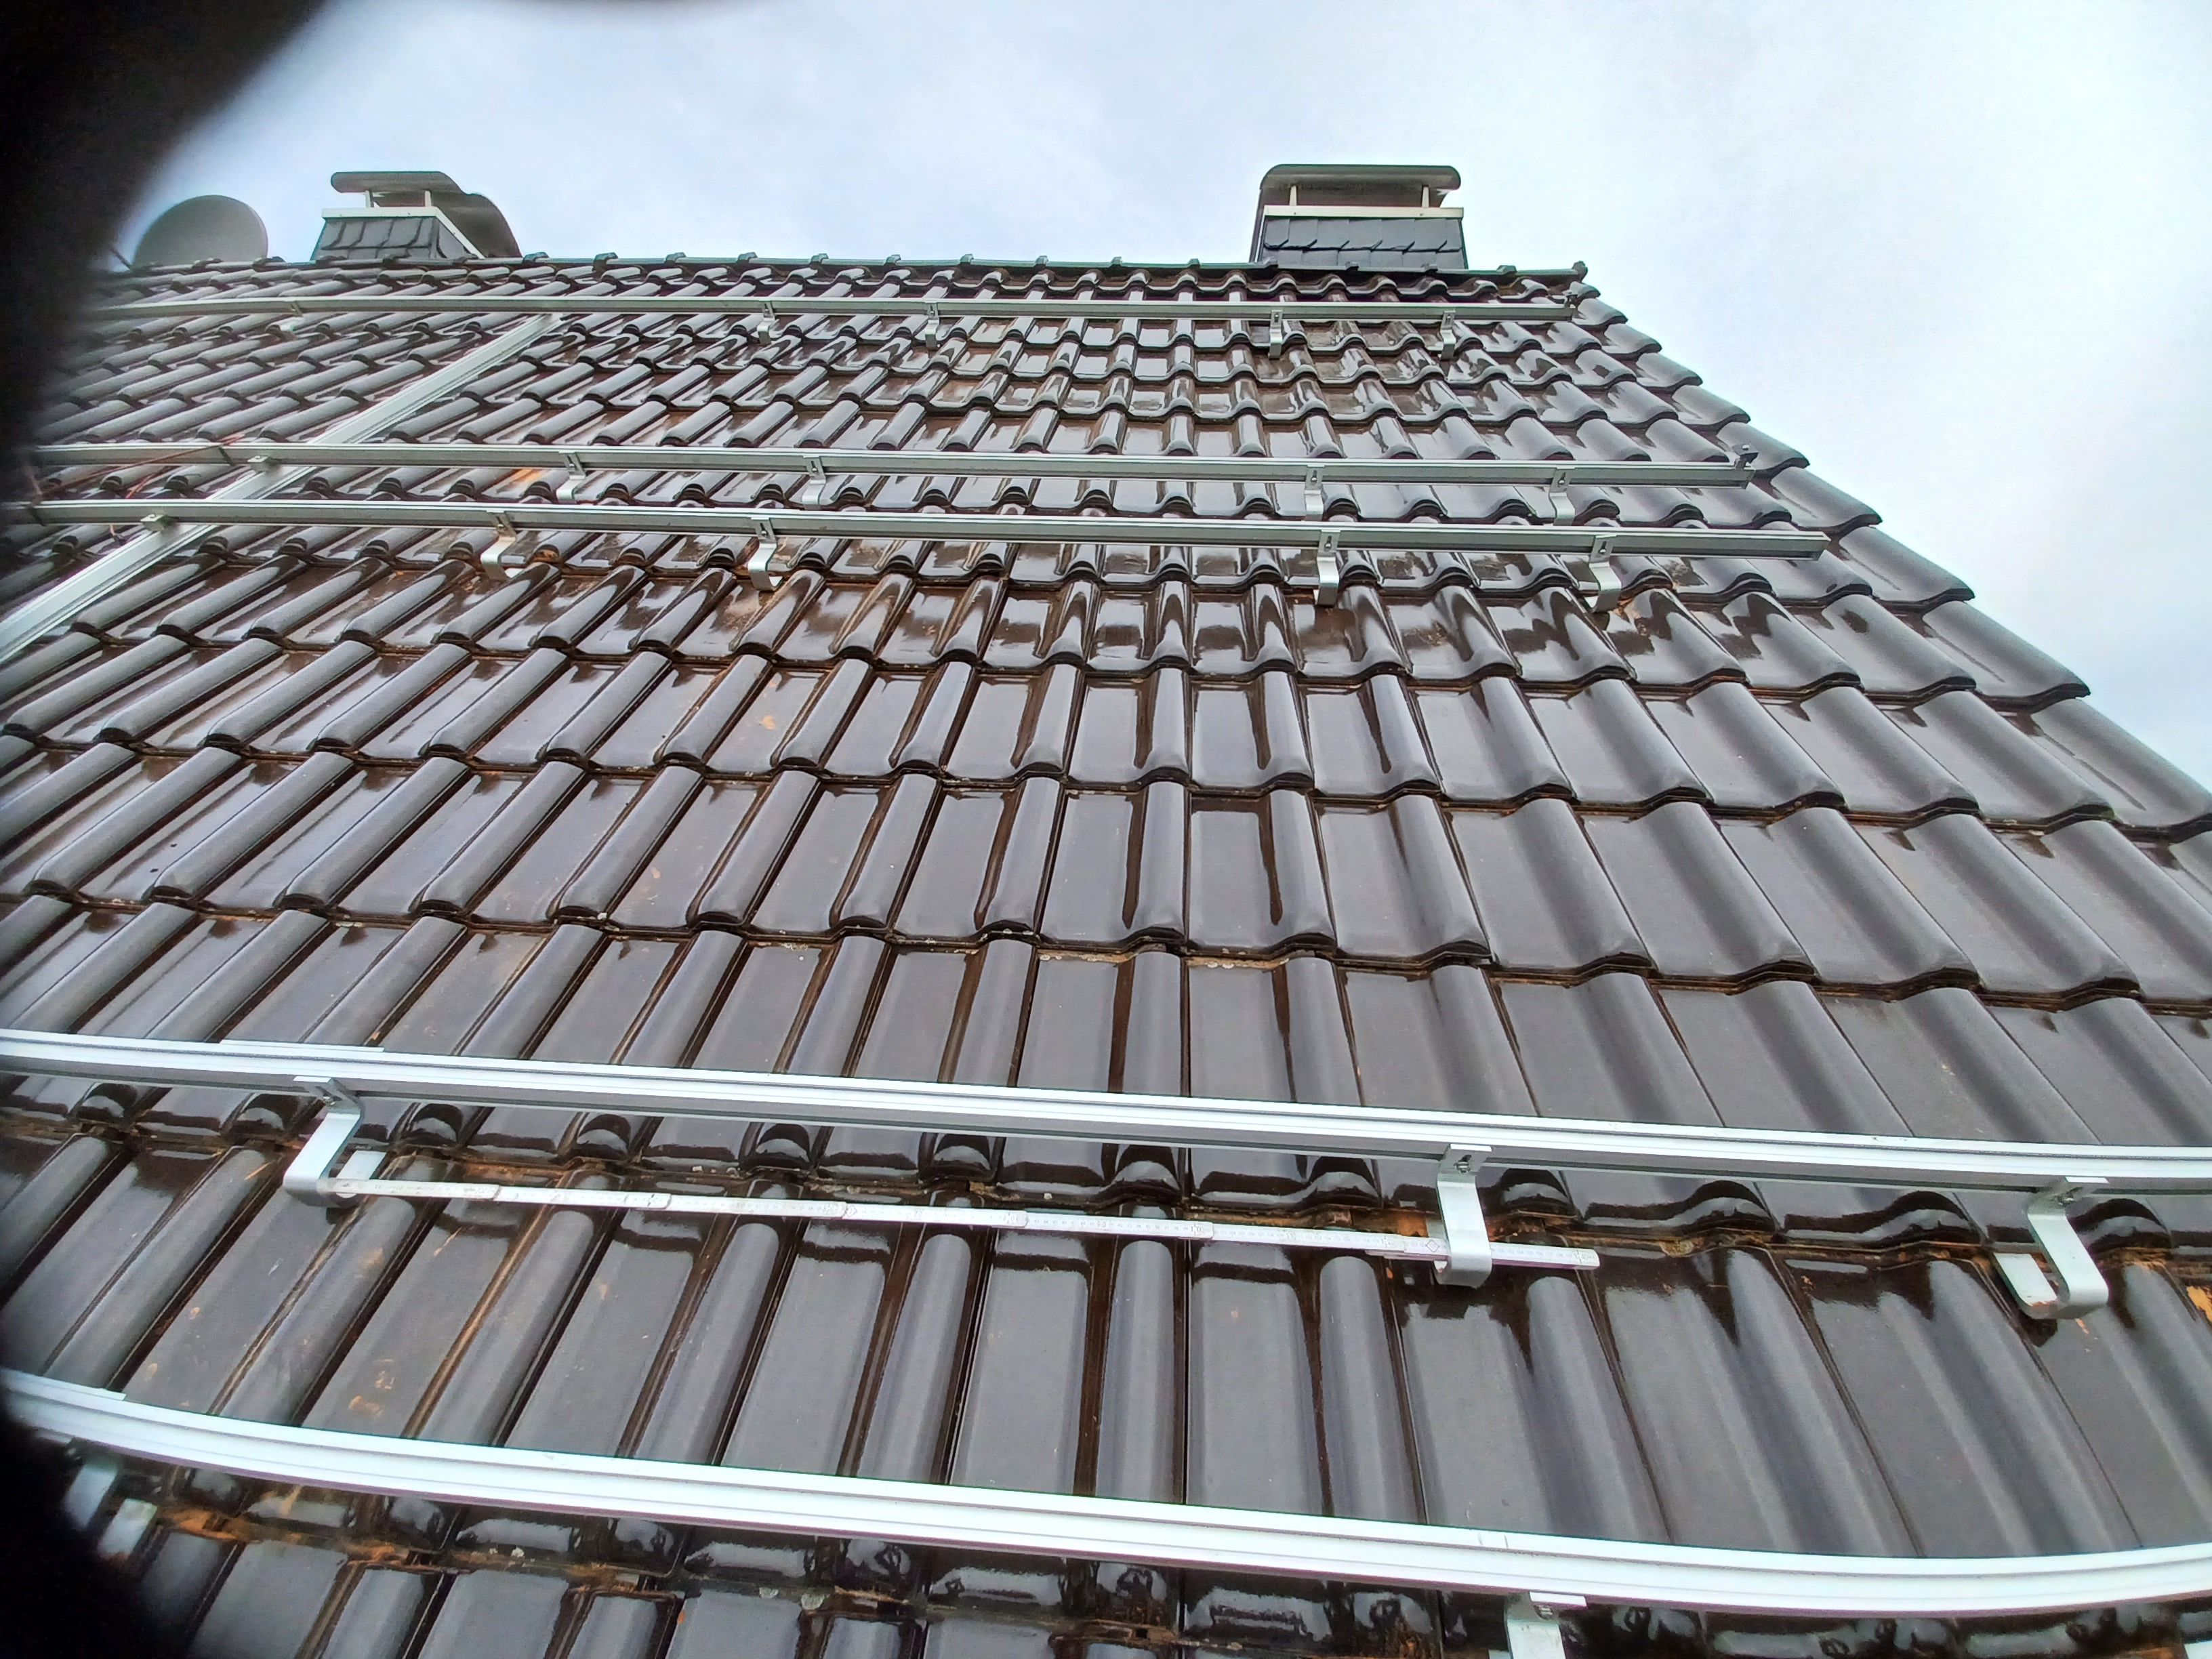hook: (33, 1427, 158, 1565), (1993, 1176, 2109, 1321), (280, 1077, 388, 1209), (1423, 1143, 1493, 1286), (1487, 1589, 1587, 1659), (479, 511, 524, 580), (1583, 533, 1622, 613), (747, 518, 784, 593), (1313, 528, 1339, 606), (1543, 467, 1575, 526), (556, 451, 587, 504), (801, 455, 827, 509), (1301, 464, 1325, 521), (280, 300, 305, 342), (1437, 310, 1456, 359), (756, 300, 775, 345), (925, 301, 941, 349), (1268, 308, 1282, 359)
